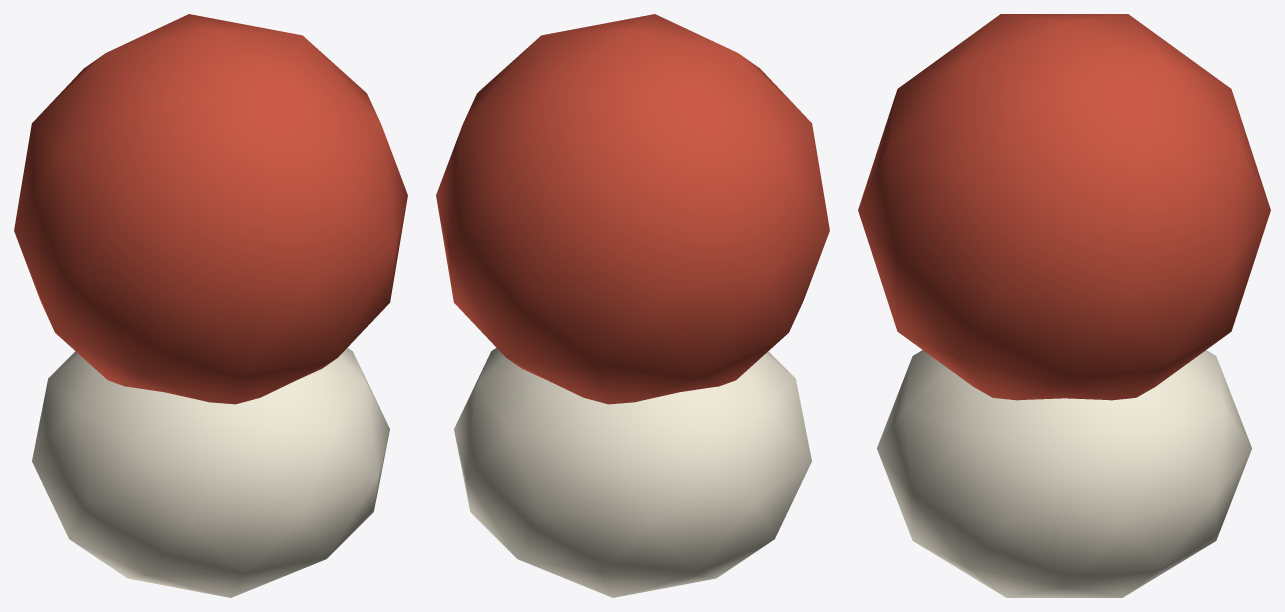
Rendered from equip_bobber.glb.
3 views of the same model, side by side, from view 1: azimuth 30°, elevation 25°; view 2: azimuth 150°, elevation 25°; view 3: azimuth 270°, elevation 25° (orthographic). The views are drawn at different scales.
Parts seen in each view (by area): view 1: bobber_top, bobber_bot; view 2: bobber_top, bobber_bot; view 3: bobber_top, bobber_bot.
Part boxes in pixels (x1,y1,x2,y2): bobber_top: (14,14,407,404); bobber_bot: (32,348,389,597); bobber_top: (436,14,829,404); bobber_bot: (454,348,811,597); bobber_top: (858,14,1270,400); bobber_bot: (877,350,1251,597).
Bounding box in the file's own units: 0.1046 × 0.165 × 0.11.
